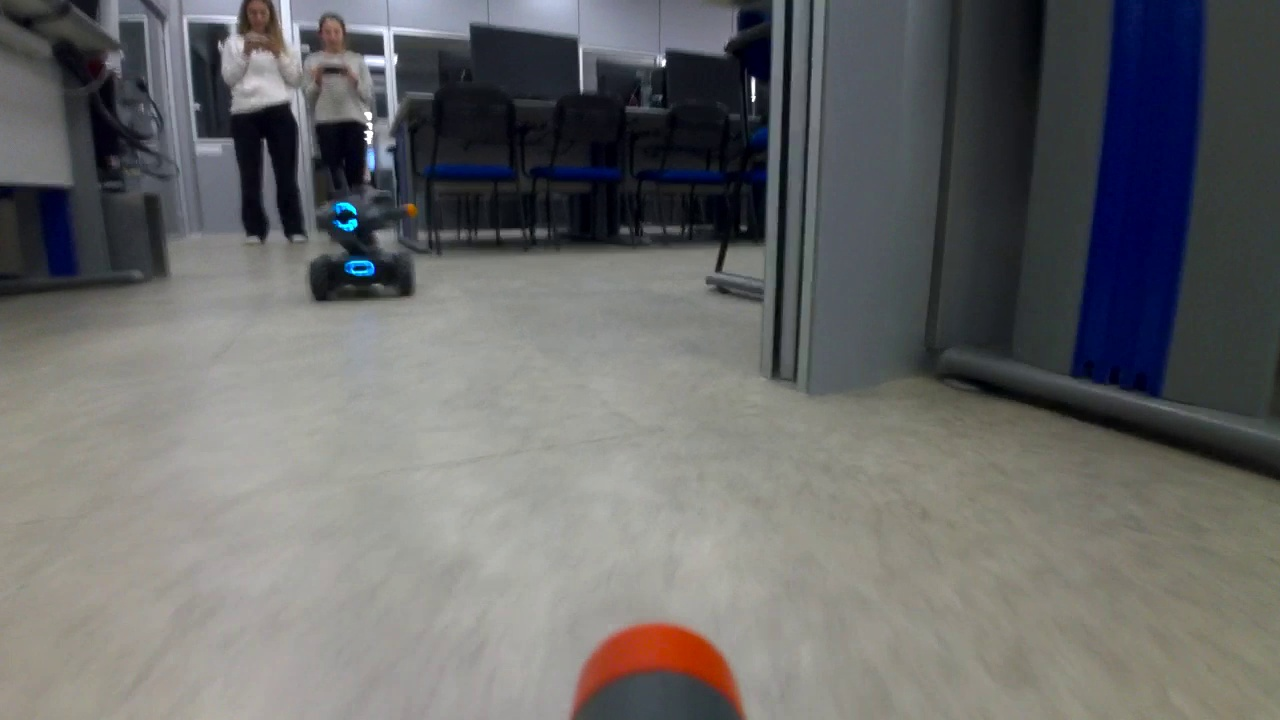robot: (303, 182, 422, 306)
